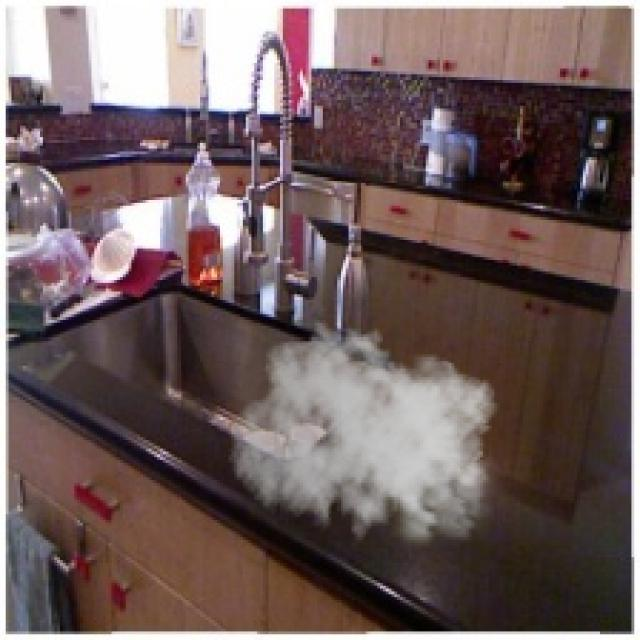smoke: (228, 320, 506, 557)
